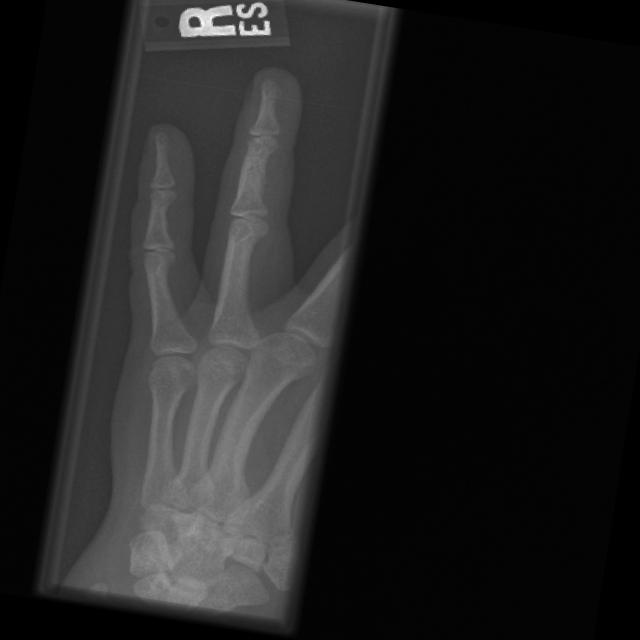fingers positive: (231, 128, 280, 177), (233, 199, 280, 250)
